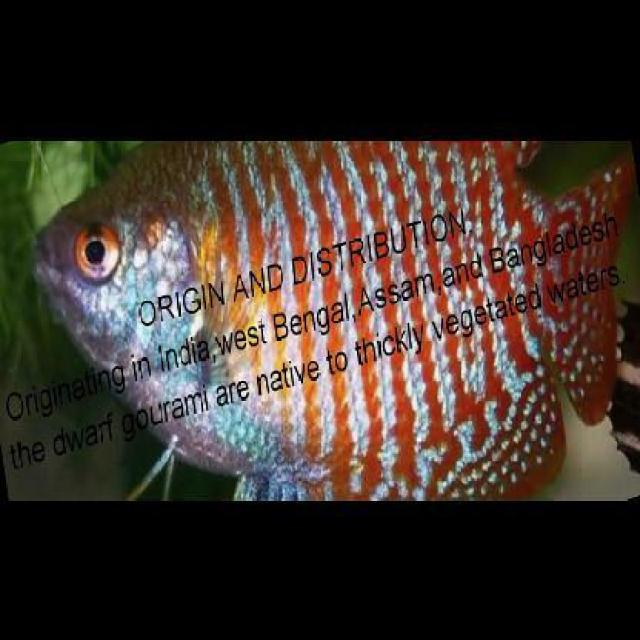Gourami: (29, 139, 638, 501)
